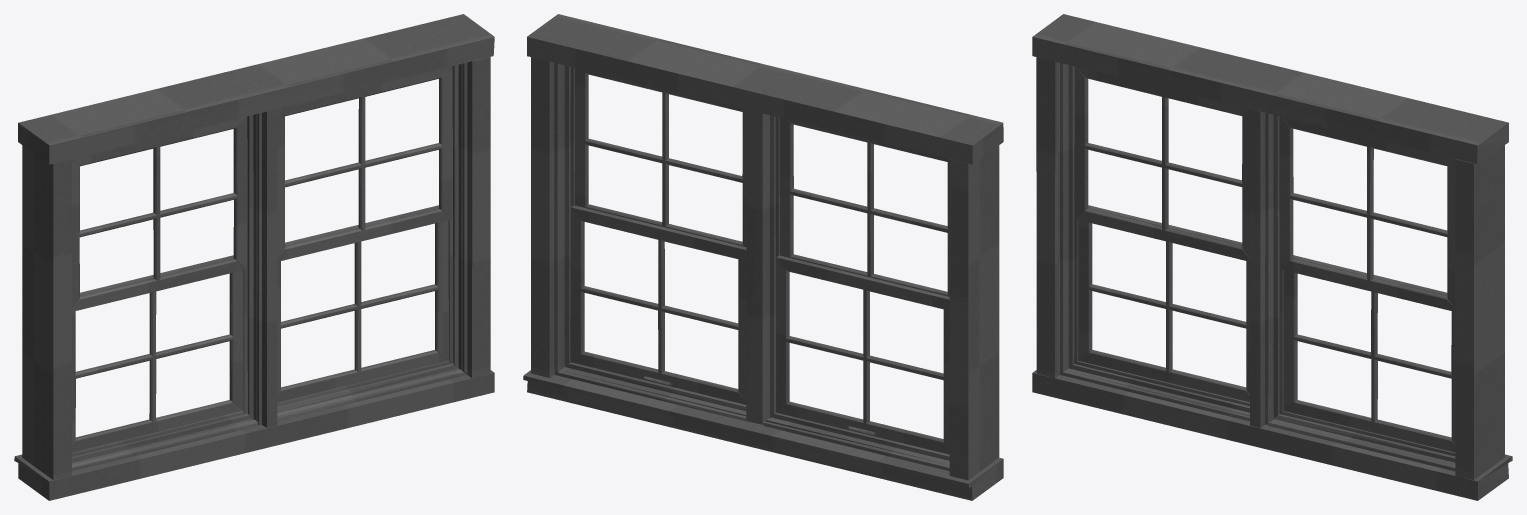
The model's file is SM_BigHouse_Window_C_3.glb.
The picture shows the model from 3 angles, left to right: view 1: azimuth 30°, elevation 25°; view 2: azimuth 150°, elevation 25°; view 3: azimuth 330°, elevation 25°; orthographic projection.
Parts seen in each view (by area): view 1: SM_BigHouse_Window_C_3; view 2: SM_BigHouse_Window_C_3; view 3: SM_BigHouse_Window_C_3.
Boxes of the visible parts, <box> form: SM_BigHouse_Window_C_3: <box>14,14,494,500</box>; SM_BigHouse_Window_C_3: <box>523,14,1003,500</box>; SM_BigHouse_Window_C_3: <box>1032,14,1512,500</box>.
Bounding box in the file's own units: 215 × 164 × 29.07.
1 material, 1 textured.
